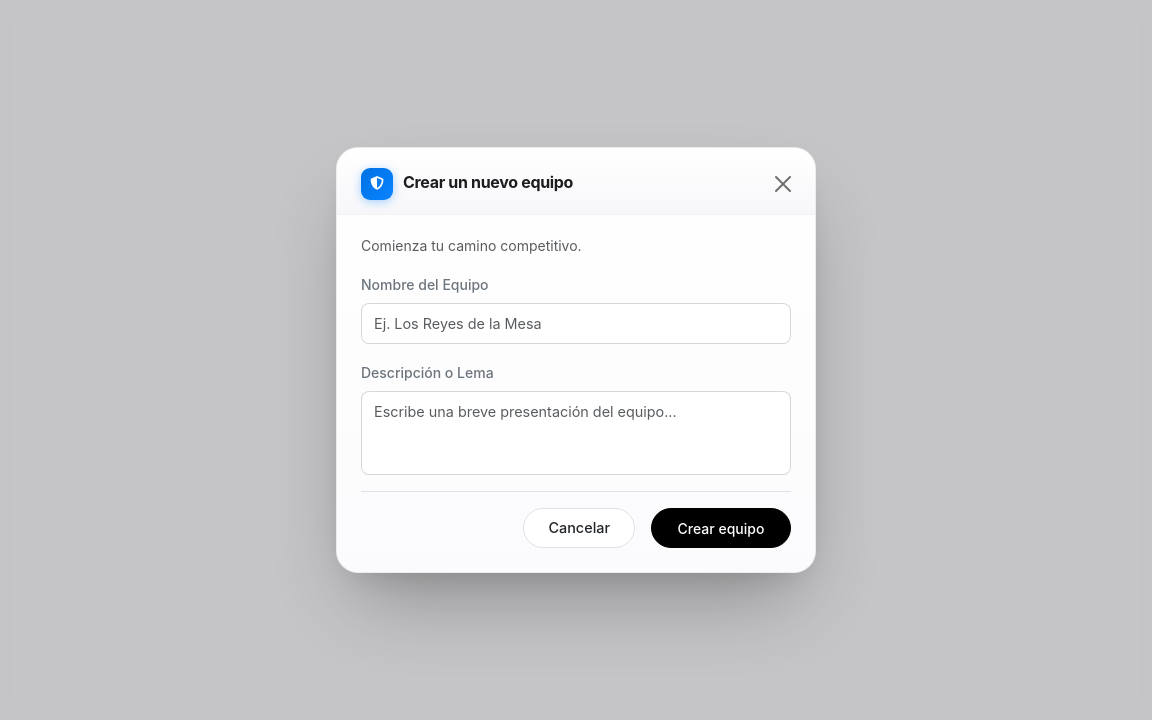
Test: CreateTeamModal › abre el modal de confirmacion con datos validos
In the field with id "teamName": (576, 324) [361,303,791,344], type "Los Reyes"
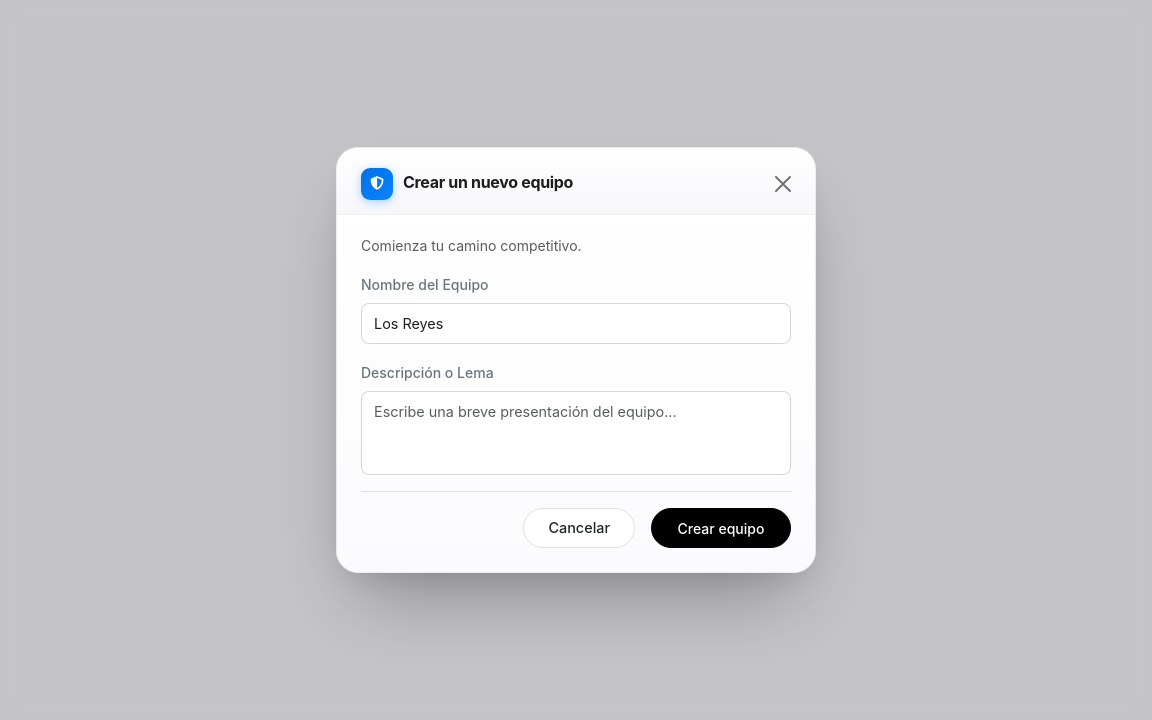
In the text box with id "teamDescription": (576, 433) [361,391,791,475], type "Lema de prueba"
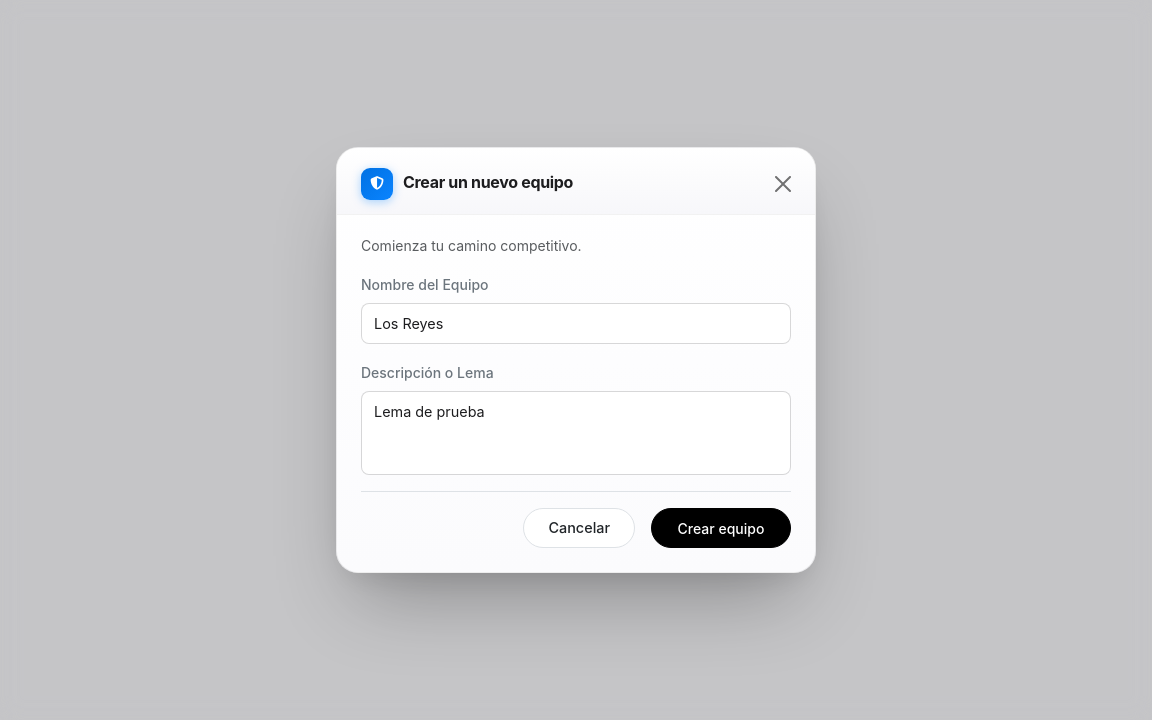
Click the button "Crear equipo": (721, 528) [651,508,791,548]
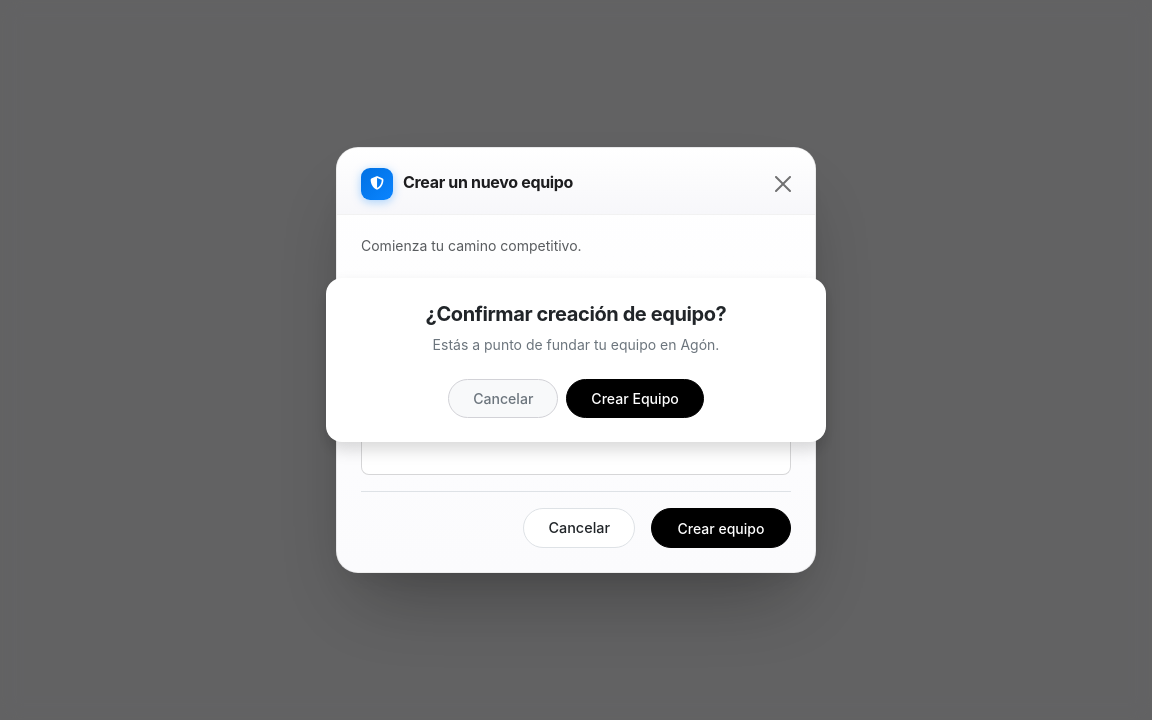
Result: the heading "¿Confirmar creación de equipo?" is shown at [426,302,726,326]
